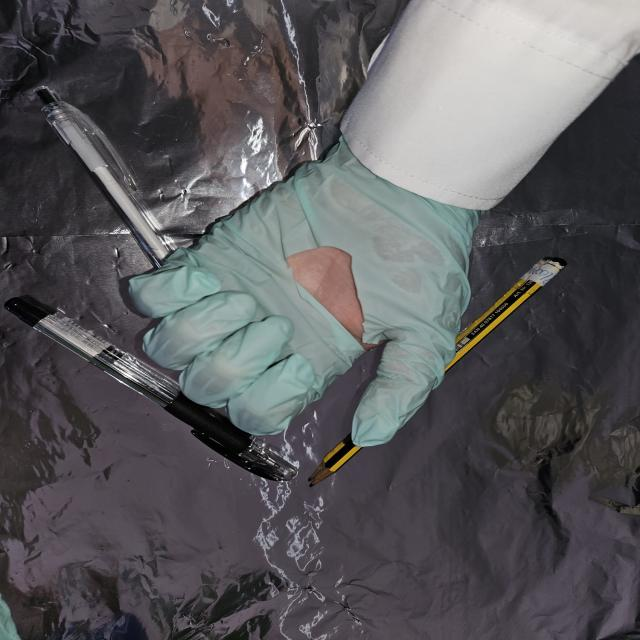gloves_damaged: (124, 134, 483, 448)
